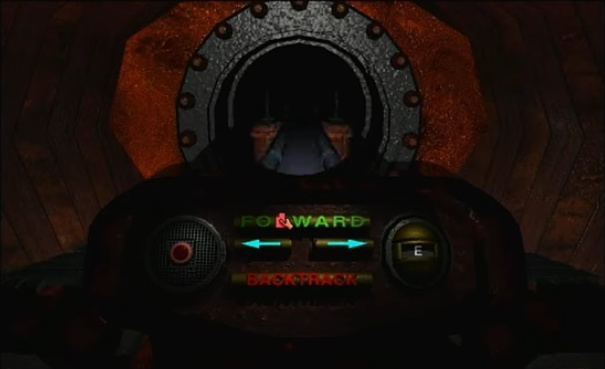Keep: (273, 209, 297, 232)
